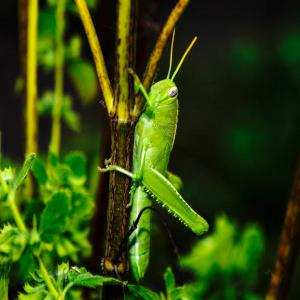locust: (120, 20, 211, 296)
